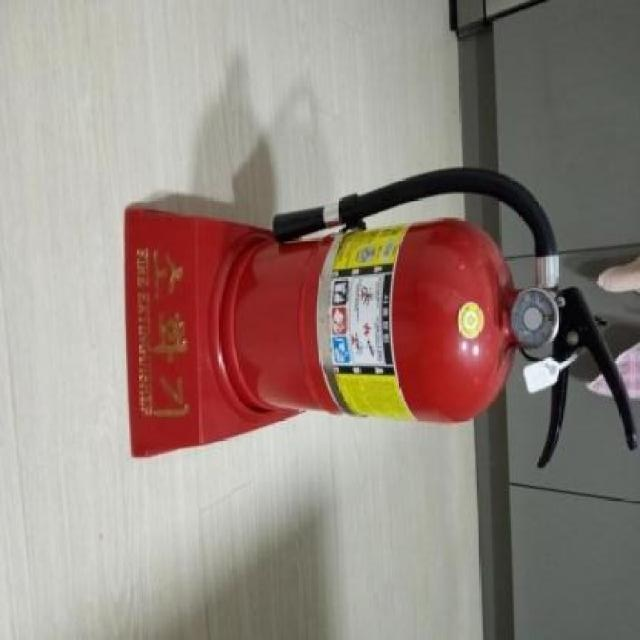fire extinguisher: (223, 166, 639, 469)
